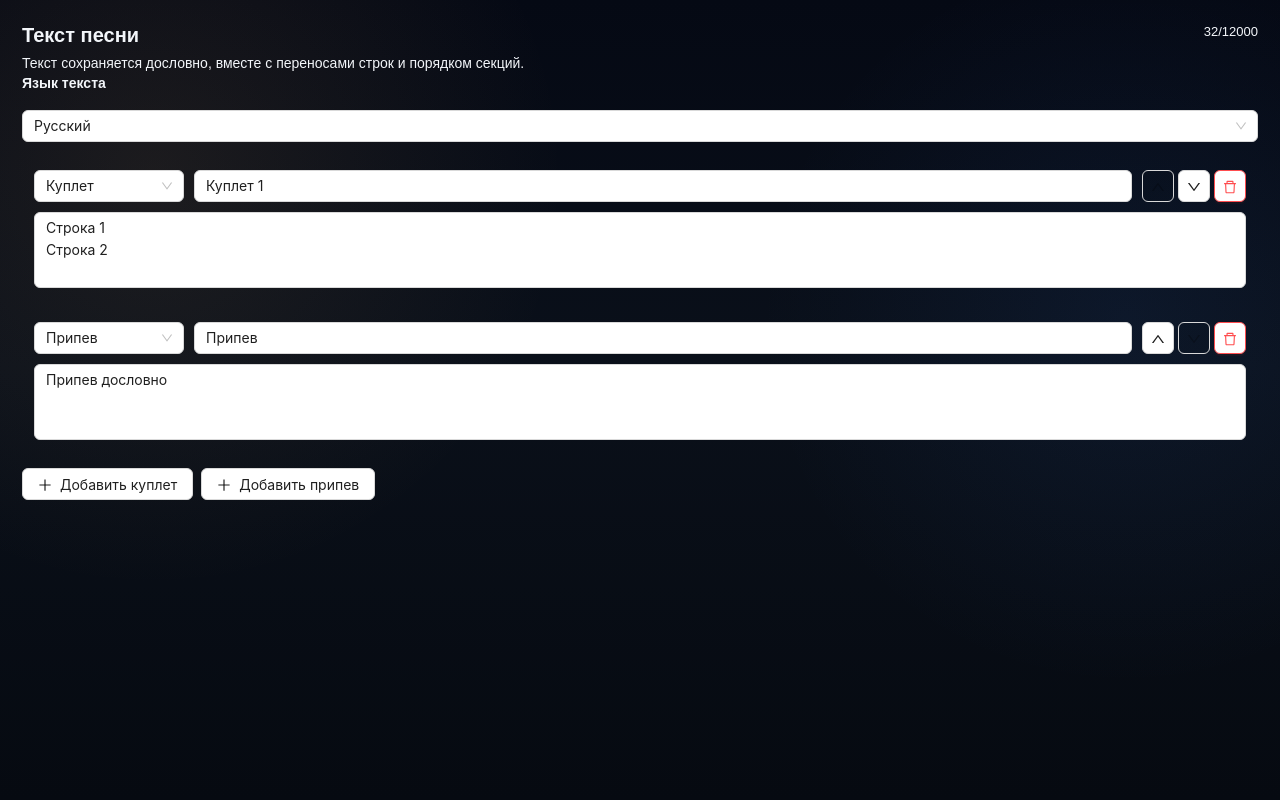
Test: moves lyric sections without changing their text or line breaks
This screenshot has width=1280, height=800.
Click the 1st button named "Переместить секцию ниже".
click(1194, 186)  # box x1=1178 y1=170 x2=1210 y2=202
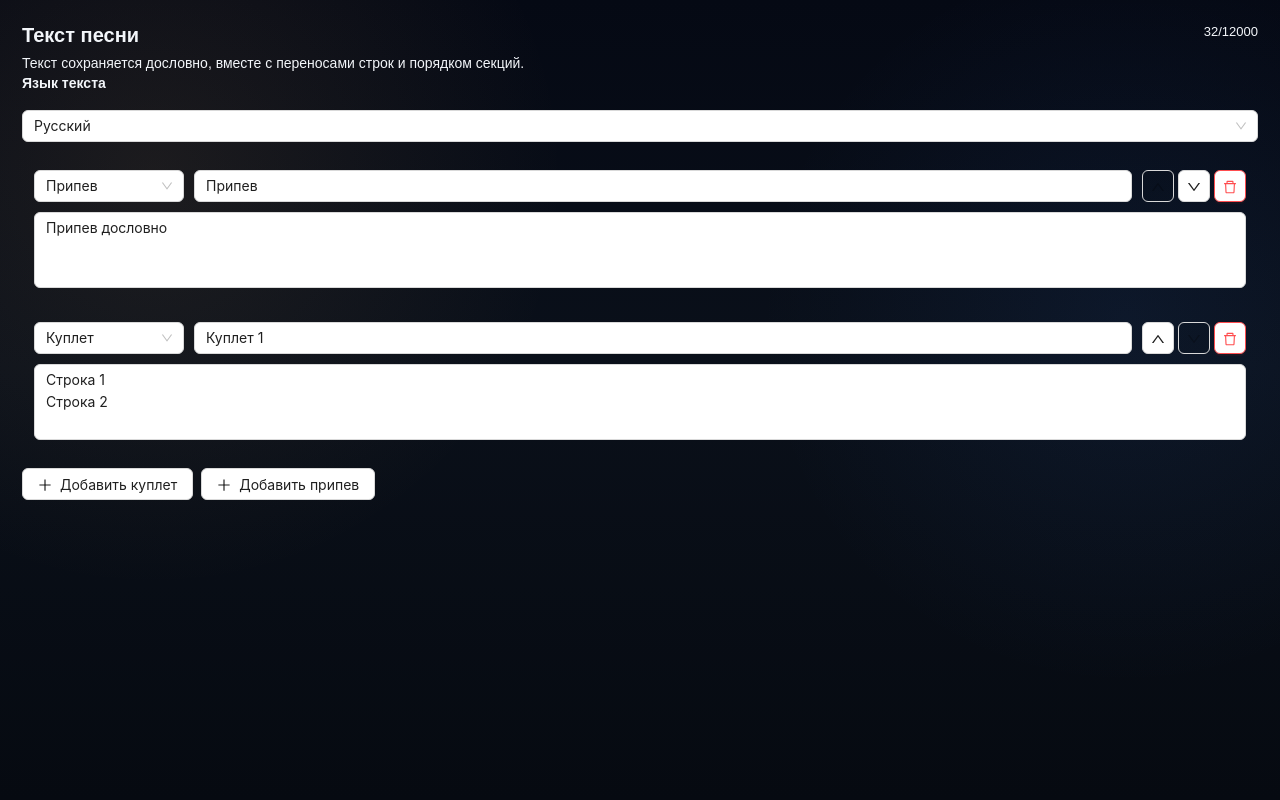
Now the text box named "Припев — Текст" holds "Припев дословно", box x1=34 y1=212 x2=1246 y2=288
